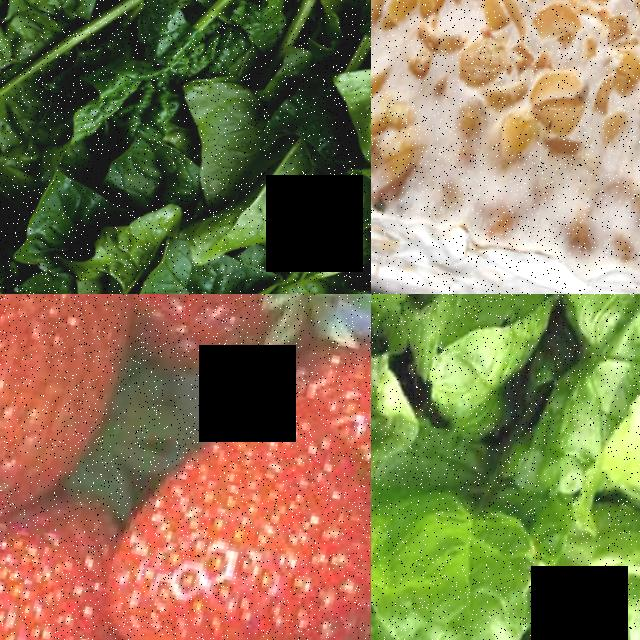spinach: (371, 463, 559, 640), (168, 122, 353, 276), (414, 294, 559, 456), (589, 294, 640, 536)
strawberry: (88, 432, 371, 640), (0, 294, 145, 524), (118, 294, 370, 368), (0, 501, 123, 640)
tempeh: (371, 0, 640, 294)
